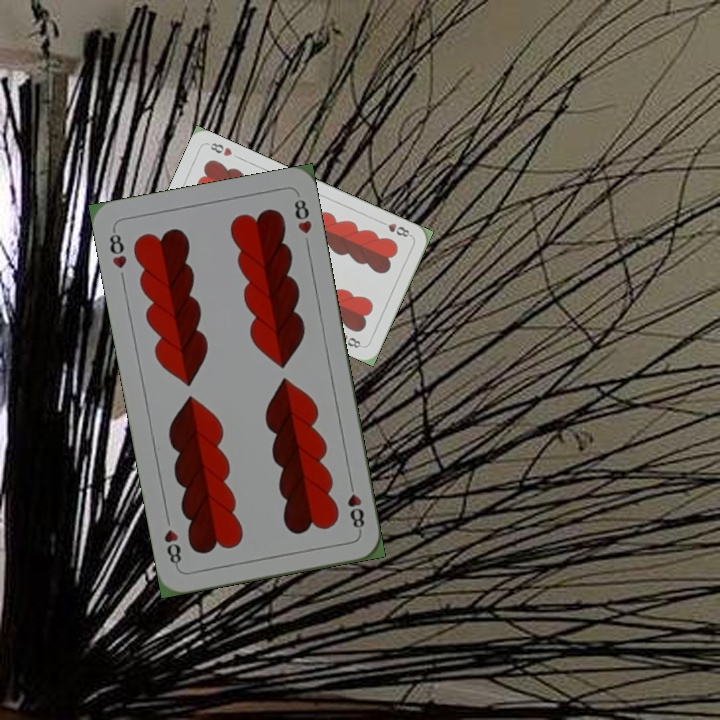H8: (343, 476, 367, 535), (105, 225, 130, 271), (376, 217, 414, 240)
